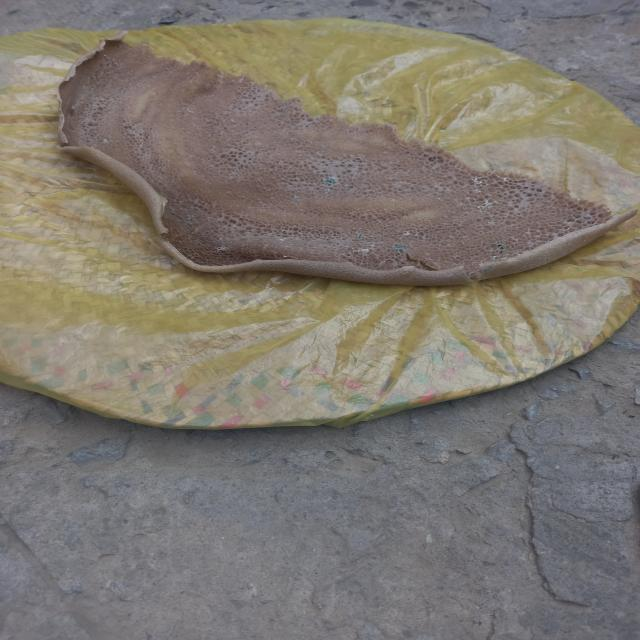injera_mold: (352, 242, 376, 255), (475, 198, 498, 210), (472, 175, 491, 187), (391, 242, 409, 252), (490, 240, 507, 250), (324, 176, 336, 185), (482, 265, 494, 273), (213, 246, 228, 252), (186, 215, 196, 220), (500, 177, 510, 182), (584, 214, 592, 220), (323, 189, 331, 195), (102, 139, 110, 144), (403, 231, 412, 235), (452, 254, 461, 258), (357, 234, 365, 238), (382, 224, 390, 228), (294, 196, 300, 201), (218, 237, 224, 240), (344, 245, 349, 248), (496, 175, 500, 178), (279, 239, 284, 241), (438, 198, 443, 200), (414, 234, 418, 236), (341, 245, 344, 247), (338, 242, 341, 244)
